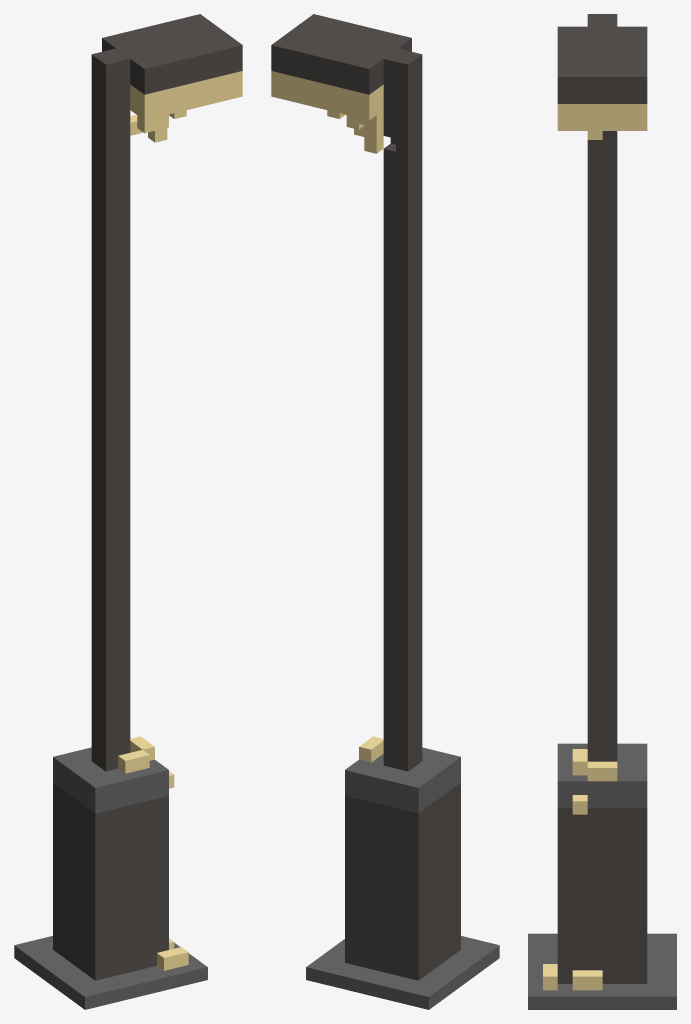
Rendered from candeeiro.obj.
3 renders of one model, left to right at view 1: azimuth 30°, elevation 25°; view 2: azimuth 150°, elevation 25°; view 3: azimuth 270°, elevation 25°, orthographic. The views are drawn at different scales.
Size of the model in its own units: 1.4 by 7.1 by 1.
Materials: 1 (1 with a texture image).
